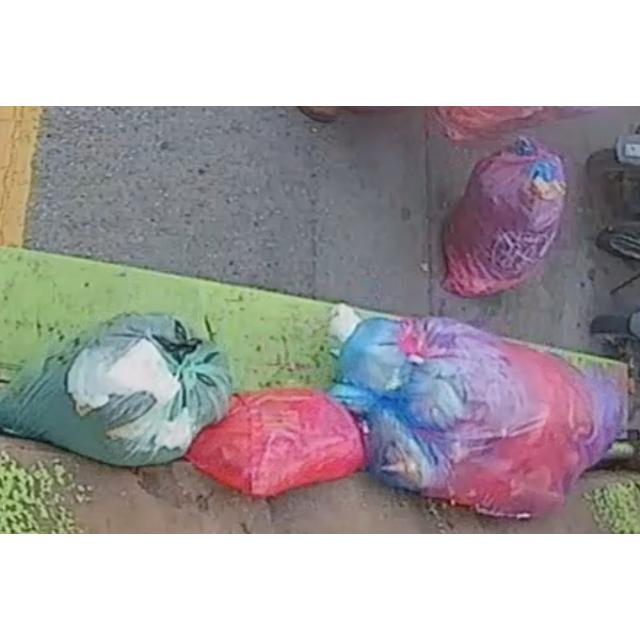general_trashbag: (0, 314, 231, 465)
other_trashbag: (330, 317, 616, 518), (442, 137, 566, 297), (185, 390, 366, 497)
